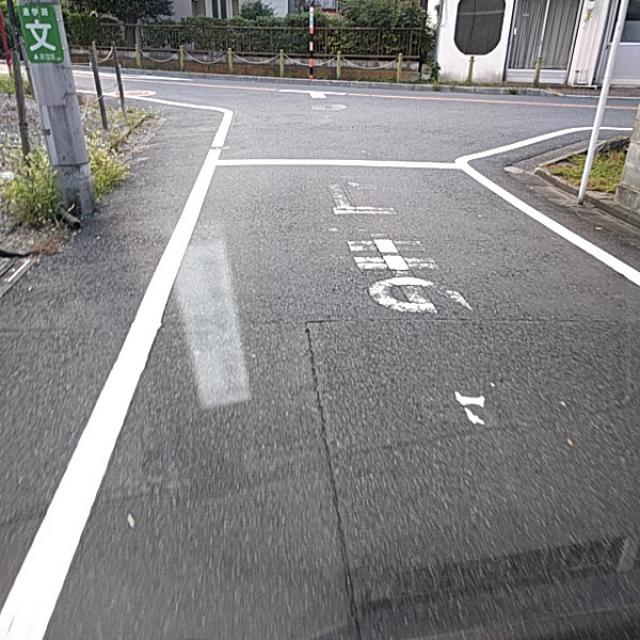pothole: (298, 350, 328, 433)
